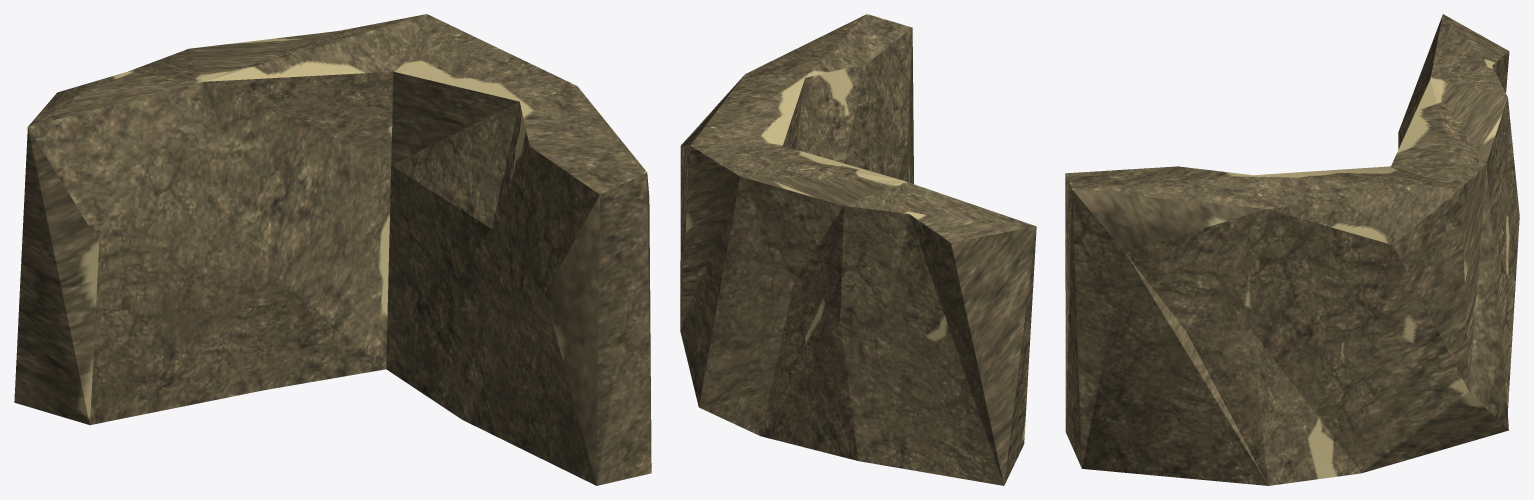
The model's file is CaveWalls1_D_COL.obj.
3 views of the same model, side by side, from view 1: azimuth 30°, elevation 25°; view 2: azimuth 150°, elevation 25°; view 3: azimuth 270°, elevation 25° (orthographic). The views are drawn at different scales.
Visible parts, largest first — view 1: CaveWalls1_D.005; view 2: CaveWalls1_D.005; view 3: CaveWalls1_D.005.
Boxes of the visible parts, bbox=[...] form: CaveWalls1_D.005: bbox=[14, 14, 651, 485]; CaveWalls1_D.005: bbox=[680, 14, 1036, 485]; CaveWalls1_D.005: bbox=[1065, 14, 1519, 485].
Size of the model in its own units: 51.5 by 32.49 by 48.06.
1 material, 1 textured.
